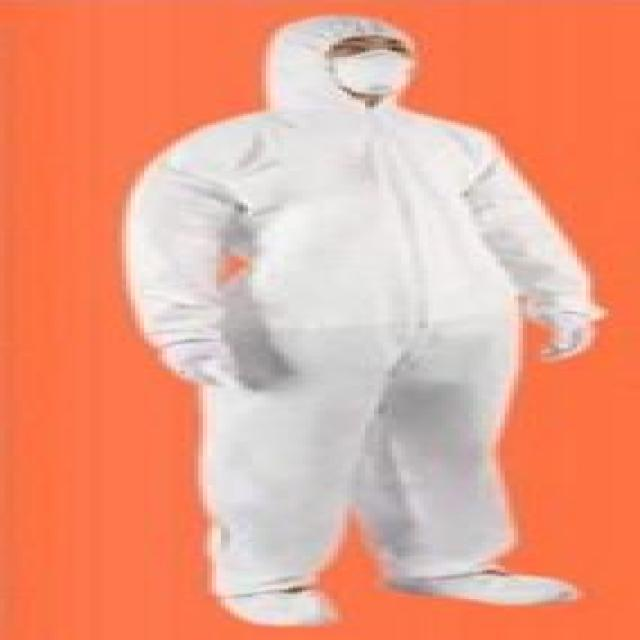Coverall: (108, 7, 613, 631)
Mask: (320, 46, 424, 91)
